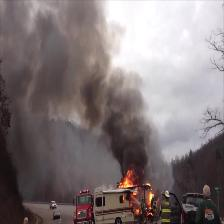fire: (121, 172, 136, 191)
smoke: (36, 30, 104, 104), (115, 123, 149, 166)
